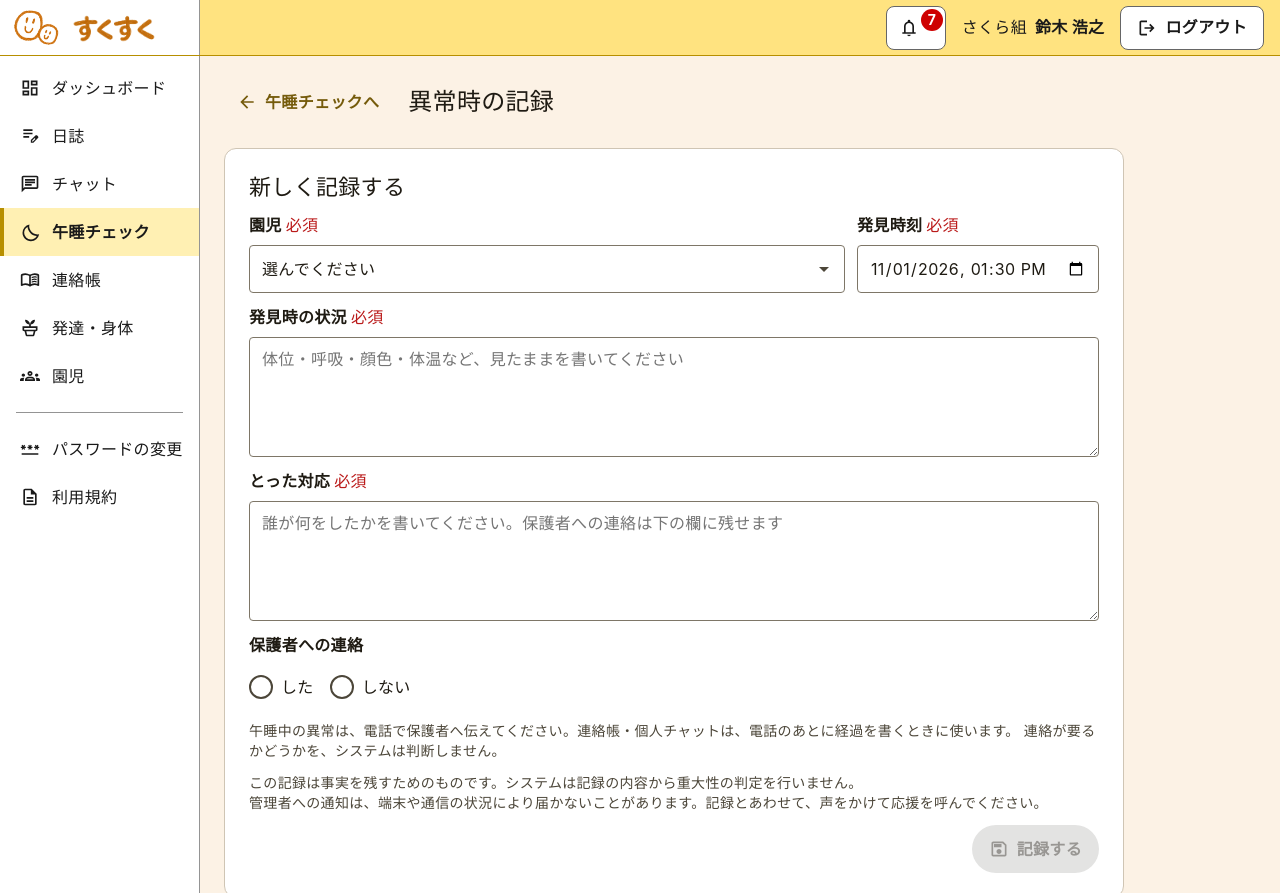
異常時記録画面（GitHub Issue #158） › 実施中の午睡チェックが無いときは記録せず、午睡チェックも開始しない
The image size is (1280, 893).
Select "伊藤 葵" in the dropdown labelled "園児" at (547, 269), box top-left (249, 245), bottom-right (845, 293)
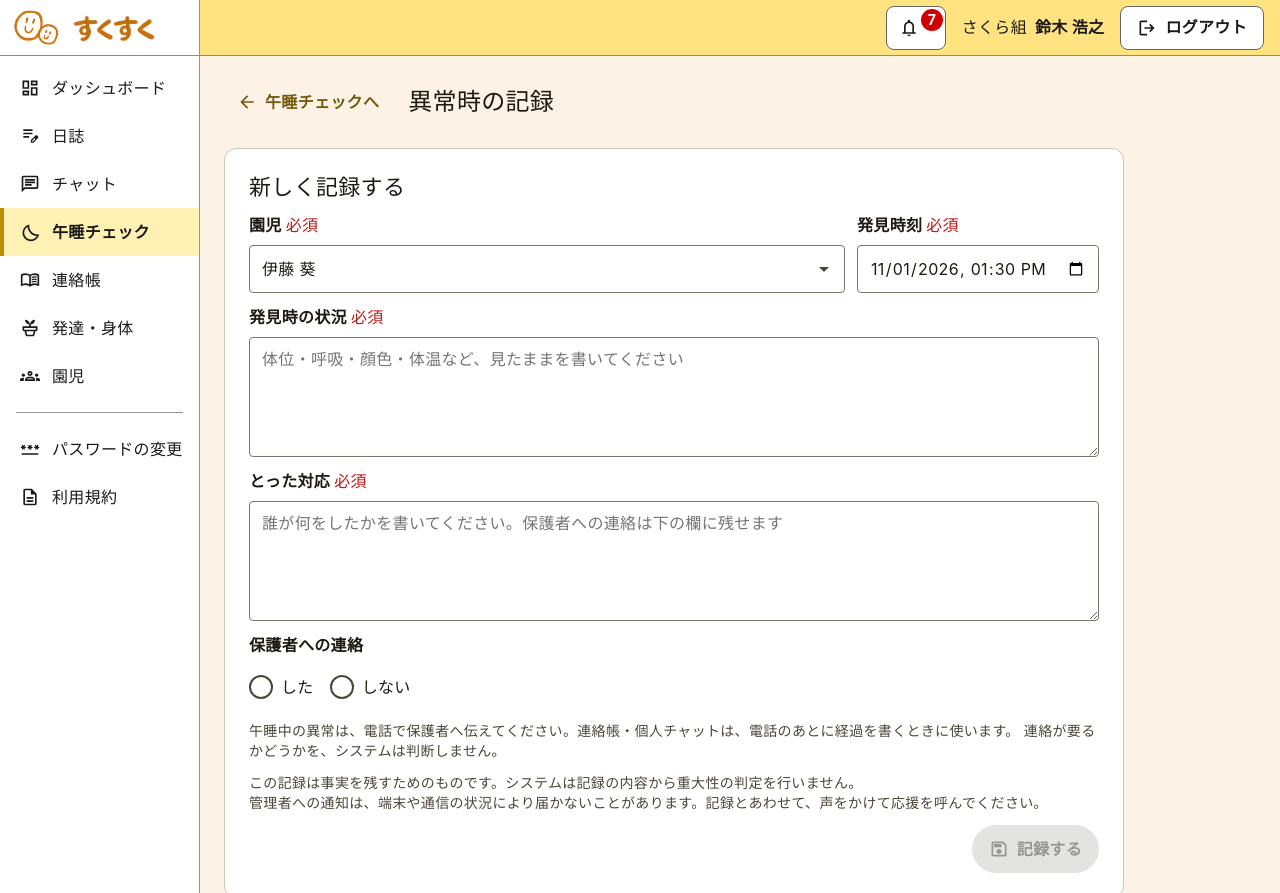
Type "顔色がやや紅潮していた" into the text box labelled "発見時の状況".
click(674, 397); type("顔色がやや紅潮していた")  # box top-left (249, 337), bottom-right (1099, 457)
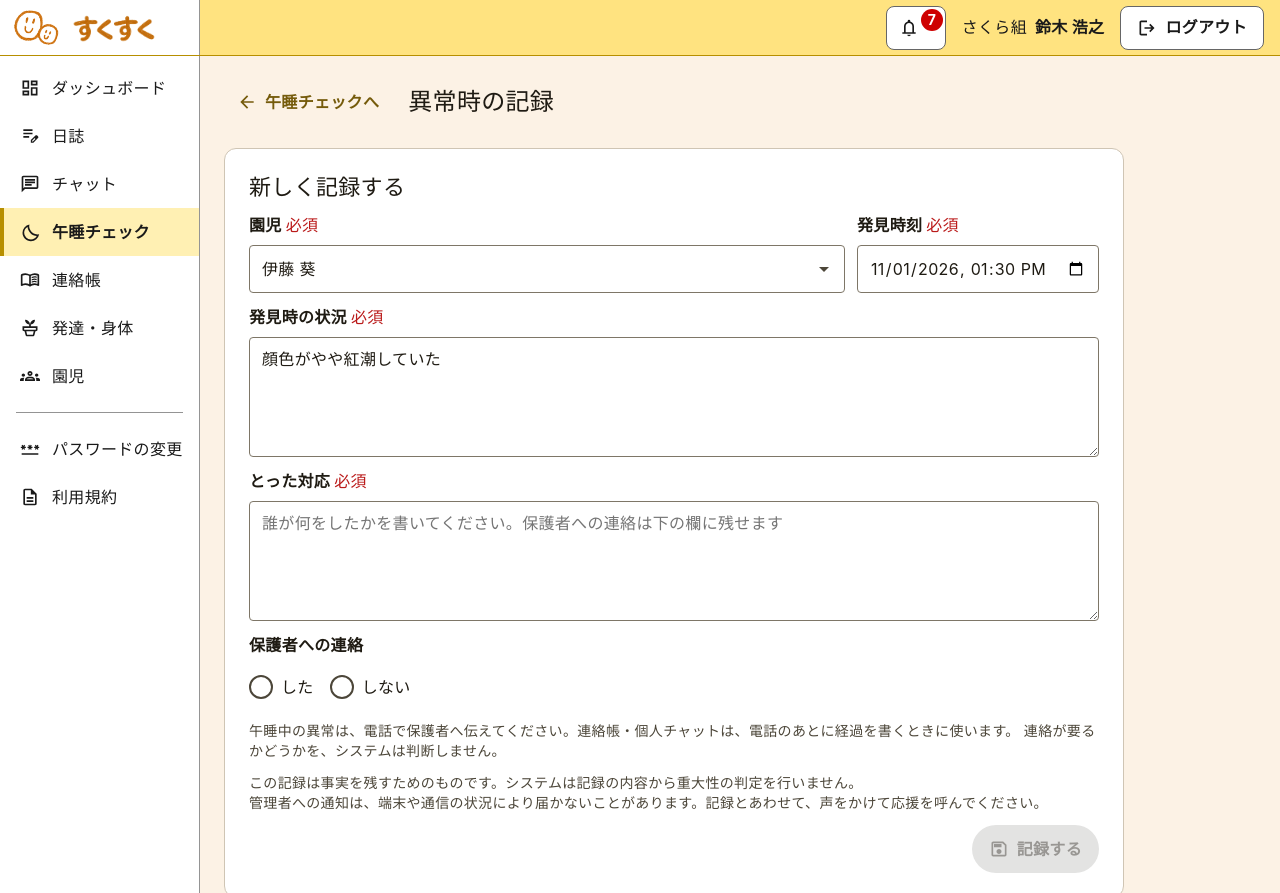
Type "別室で休ませた" into the text box labelled "とった対応".
click(674, 561); type("別室で休ませた")  # box top-left (249, 501), bottom-right (1099, 621)
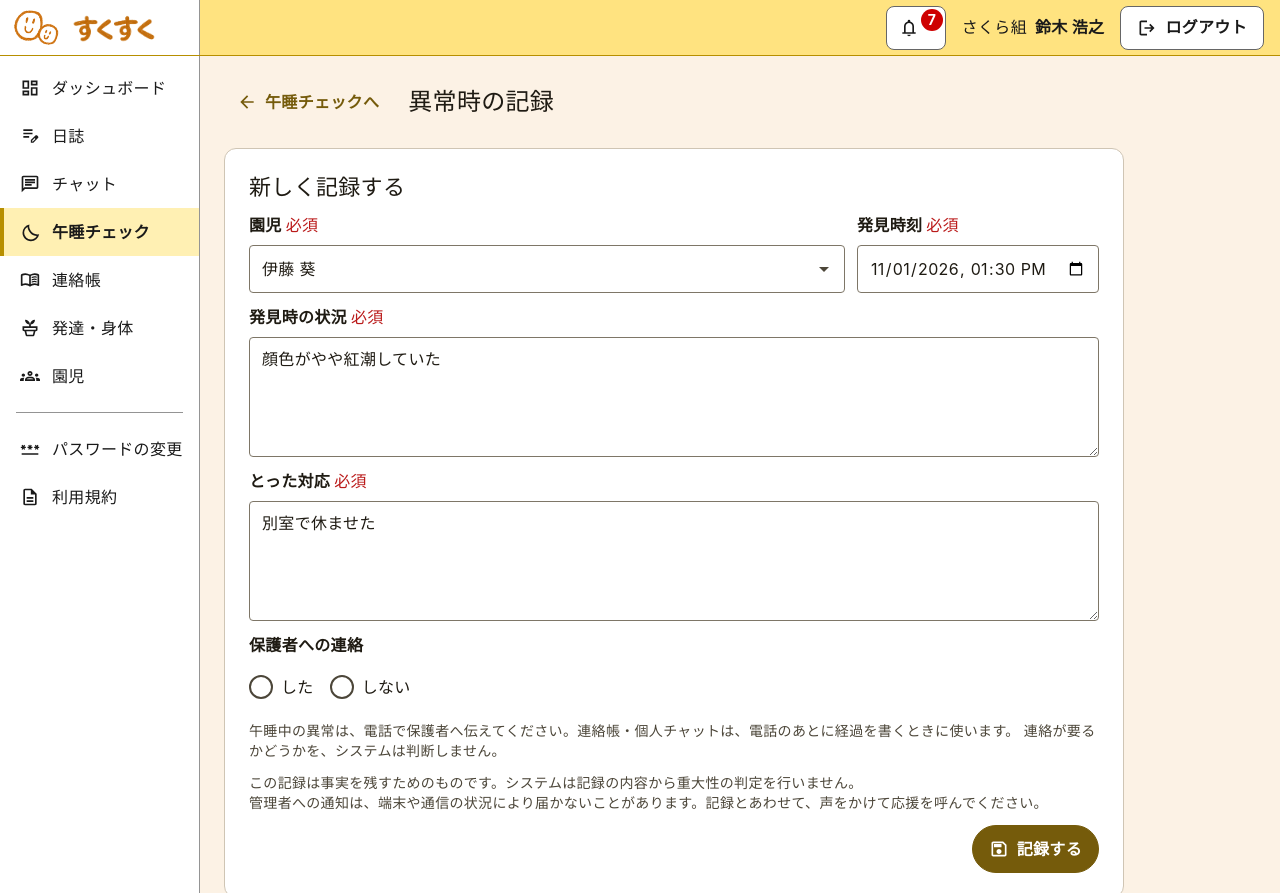
Click the button "記録する".
click(1035, 849)  # box top-left (972, 825), bottom-right (1099, 873)
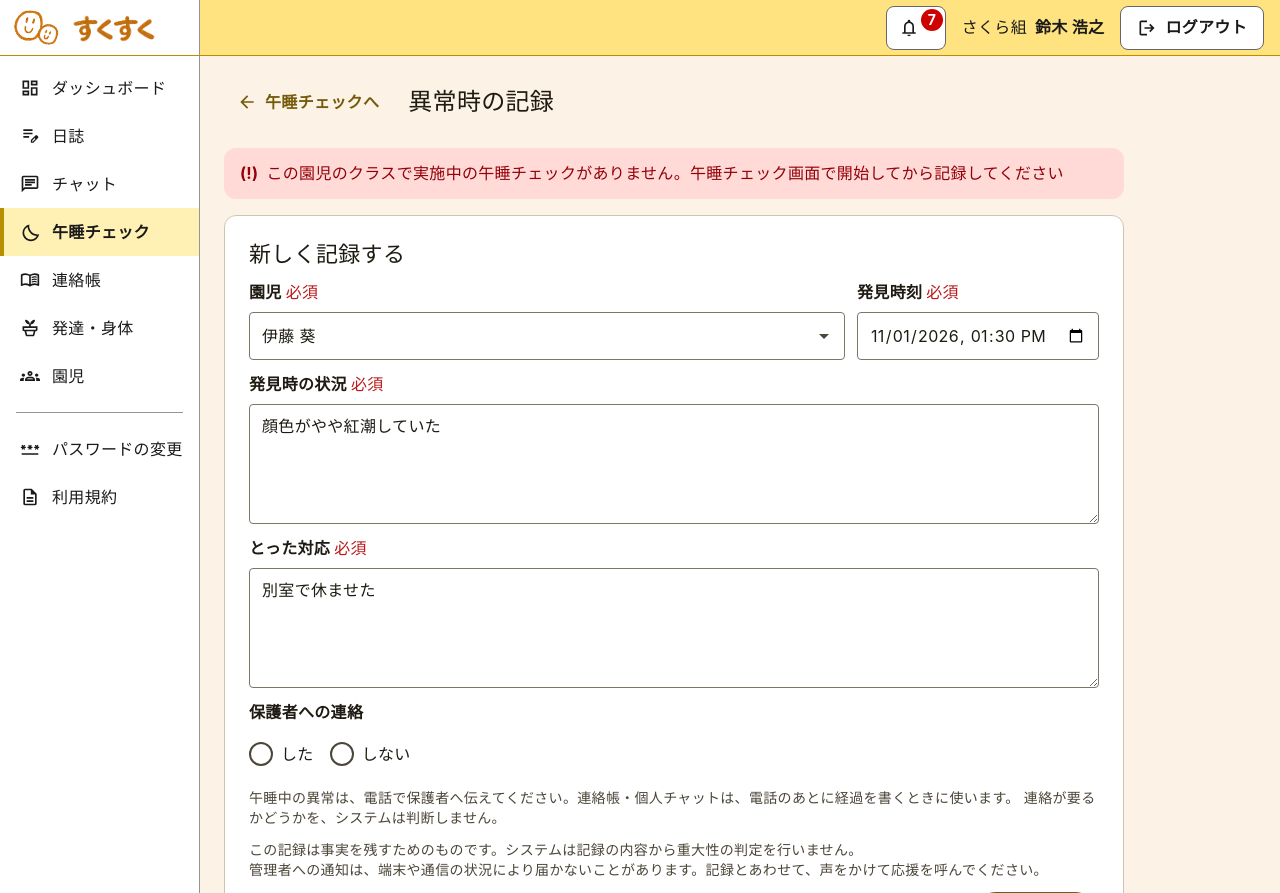
Result: the text "実施中の午睡チェックがありません" is shown at top-left (266, 163), bottom-right (1064, 183)
